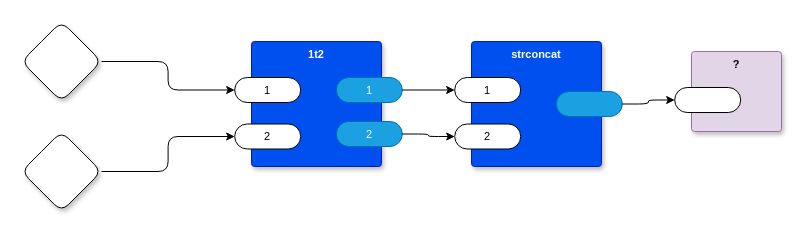
The diagram is 805 pixels wide and 236 high, and some of its shapes have lost their labels. The centre of each missing label's shape, as x and y in pixels:
"in" goes at point 707,99.
"input1" goes at point 62,62.
"input2" goes at point 62,172.
"str" goes at point 588,103.
